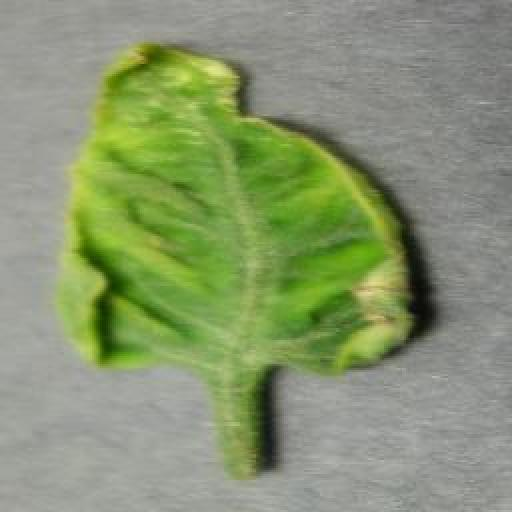Yellow Leaf Curl Virus: (55, 42, 416, 378)
